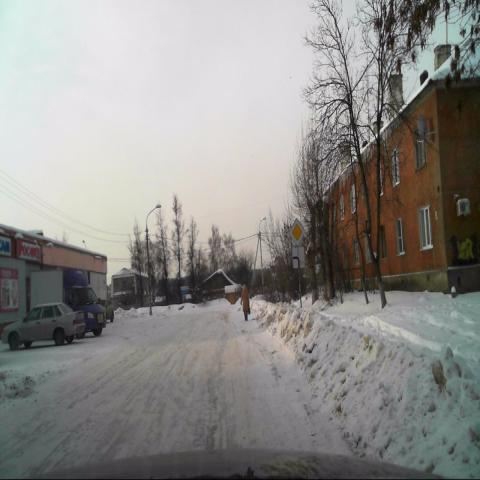8_13: (292, 246, 305, 267)
